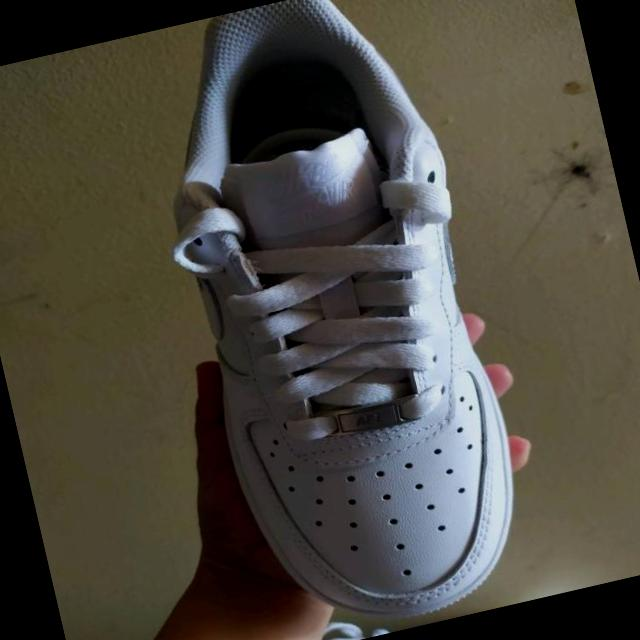nike_original_airforce: (134, 0, 545, 640)
